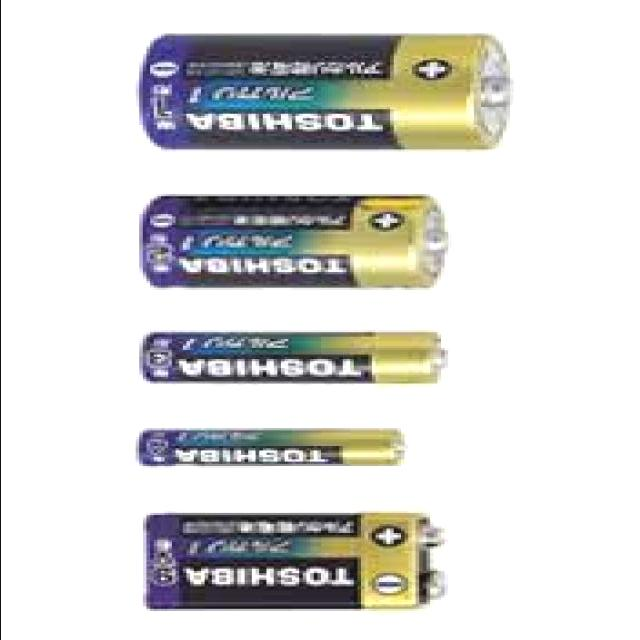9V: (131, 492, 458, 622)
AA: (138, 190, 454, 292)
AAA: (134, 326, 456, 386)
